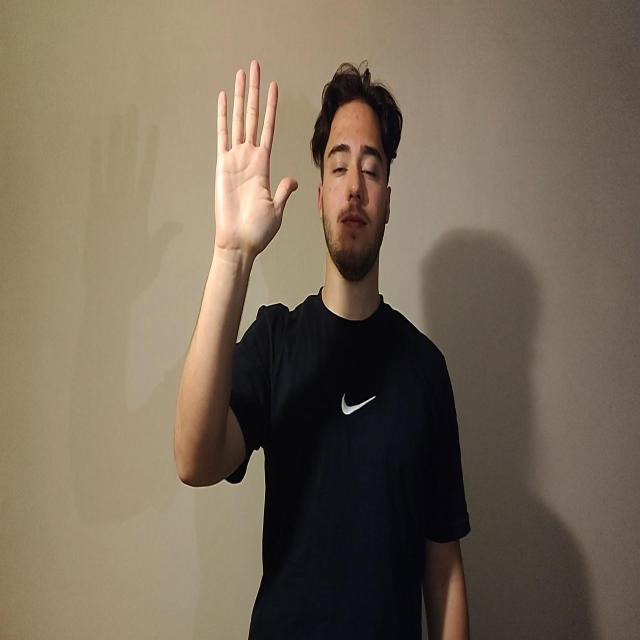hello: (213, 58, 298, 259)
